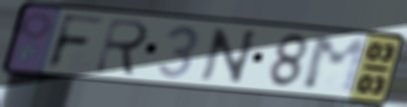3: (156, 23, 203, 81)
8: (265, 32, 312, 89)
F: (43, 12, 110, 72)
M: (300, 34, 372, 96)
N: (198, 26, 261, 86)
R: (91, 16, 153, 78)
